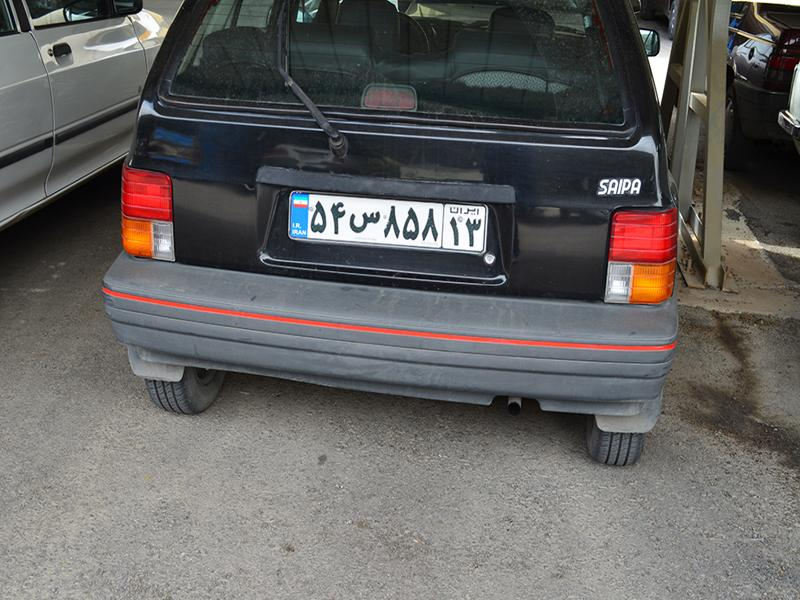Plate: (280, 184, 497, 267)
